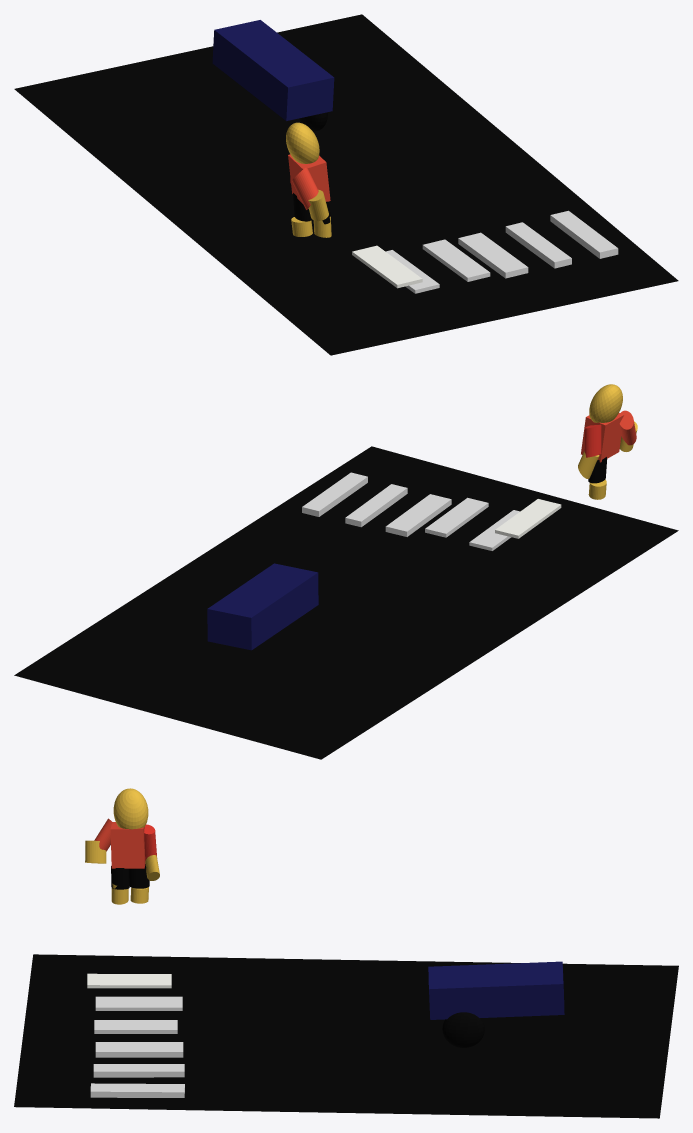
Rendered from CHIAMAKA.fbx.
The picture shows the model from 3 angles, top to bottom: view 1: azimuth 30°, elevation 25°; view 2: azimuth 150°, elevation 25°; view 3: azimuth 270°, elevation 25°; orthographic projection. The views are drawn at different scales.
Parts seen in each view (by area): view 1: Cube.001, Cube.008, Cube.006, Cube.002, Cube.005, Cube.003, Cube.007, Sphere, Cube, Cylinder.002, Cube.004; view 2: Cube.001, Cube.008, Cube.006, Cube.002, Cube.005, Cube.003, Cube.007, Sphere, Cube, Cube.004; view 3: Cube.001, Cube.008, Cube, Cube.006, Cube.005, Cube.004, Cube.007, Cube.002, Sphere.001, Sphere, Cube.003.
Part boxes in pixels (box(x1,y1,x2,y2)): Cube.001: box(14, 14, 678, 355); Cube.008: box(212, 20, 334, 120); Cube.006: box(458, 232, 528, 278); Cube.002: box(352, 245, 422, 288); Cube.005: box(550, 210, 618, 258); Cube.003: box(422, 239, 490, 281); Cube.007: box(505, 222, 571, 268); Sphere: box(286, 122, 319, 163); Cube: box(288, 154, 330, 203); Cylinder.002: box(292, 167, 318, 209); Cube.004: box(386, 250, 439, 293); Cube.001: box(14, 446, 678, 759); Cube.008: box(207, 563, 318, 650); Cube.006: box(385, 494, 451, 536); Cube.002: box(495, 499, 561, 538); Cube.005: box(302, 472, 367, 516); Cube.003: box(425, 497, 488, 537); Cube.007: box(345, 484, 407, 527); Sphere: box(589, 384, 622, 422); Cube: box(581, 413, 623, 462); Cube.004: box(469, 510, 519, 550); Cube.001: box(14, 954, 678, 1118); Cube.008: box(428, 961, 564, 1019); Cube: box(110, 822, 145, 868); Cube.006: box(95, 1042, 183, 1057); Cube.005: box(90, 1083, 184, 1097); Cube.004: box(95, 996, 182, 1010); Cube.007: box(93, 1064, 184, 1077); Cube.002: box(87, 973, 171, 988); Sphere.001: box(442, 1012, 484, 1047); Sphere: box(113, 788, 148, 829); Cube.003: box(94, 1020, 177, 1033).
Size of the model in its own units: 2283 by 1111 by 3840.
